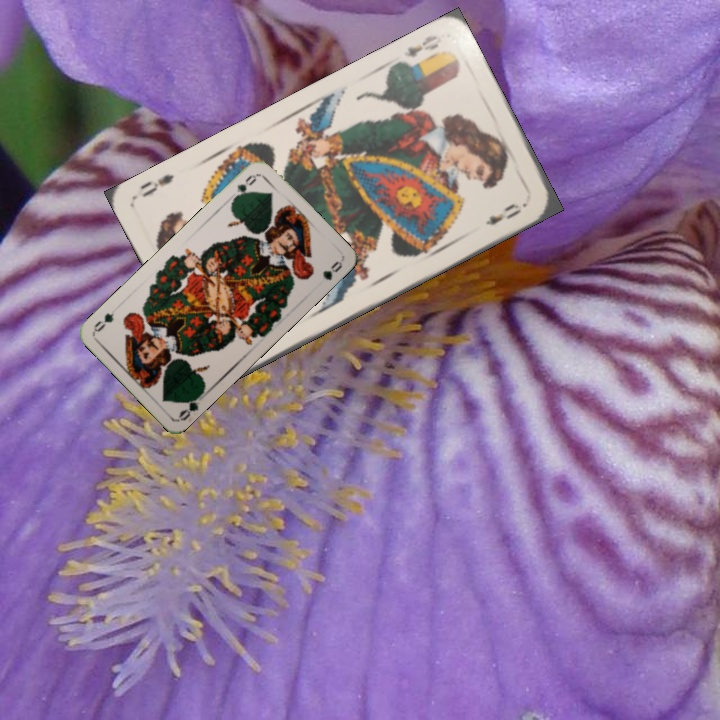EO: (399, 31, 445, 60)
GO: (175, 388, 208, 423), (229, 170, 260, 204)
